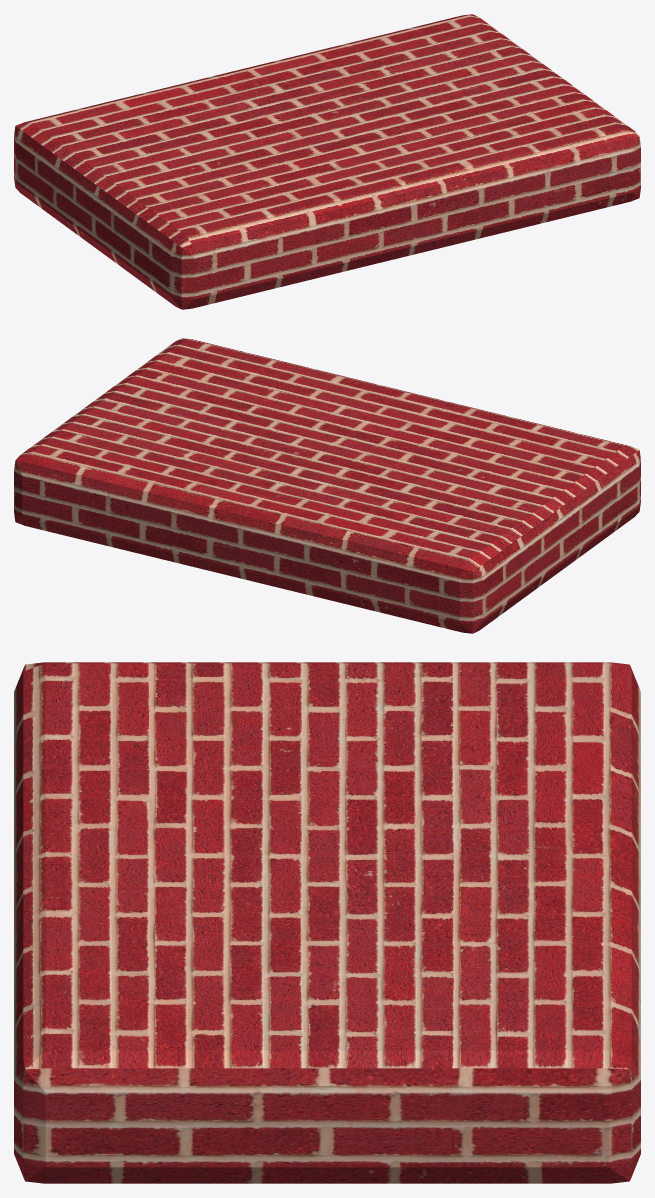
Rendered from paddle.obj.
3 views of the same model, one above another, from view 1: azimuth 30°, elevation 25°; view 2: azimuth 150°, elevation 25°; view 3: azimuth 270°, elevation 25° (orthographic). The views are drawn at different scales.
Visible parts, largest first — view 1: Cube_Cube.001; view 2: Cube_Cube.001; view 3: Cube_Cube.001.
Part boxes in pixels (<box>): Cube_Cube.001: <box>14,14,640,309</box>; Cube_Cube.001: <box>14,338,640,633</box>; Cube_Cube.001: <box>14,662,640,1183</box>.
Bounding box in the file's own units: 3.13 × 0.4651 × 2.
